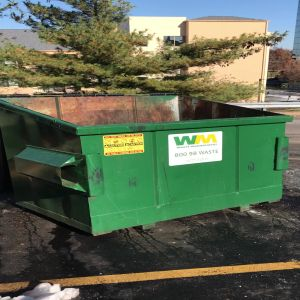Dumpster: (1, 94, 295, 239)
